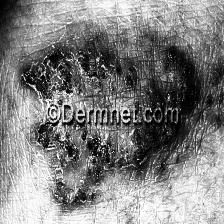Non-Cancerous Skin Condition: (24, 55, 196, 203)
